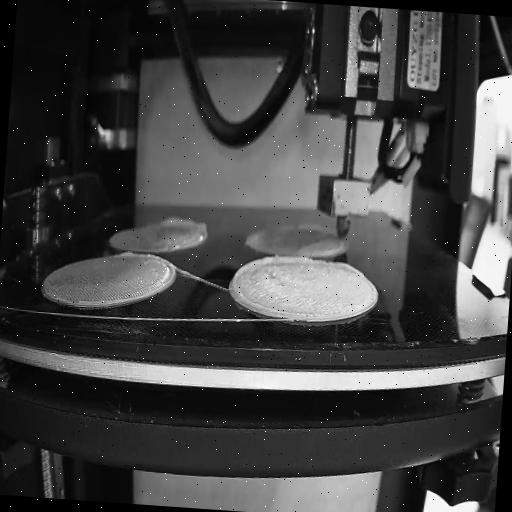over_extrusion: (230, 250, 306, 318), (157, 211, 206, 235), (311, 238, 349, 258), (332, 260, 366, 280), (113, 245, 140, 263)
